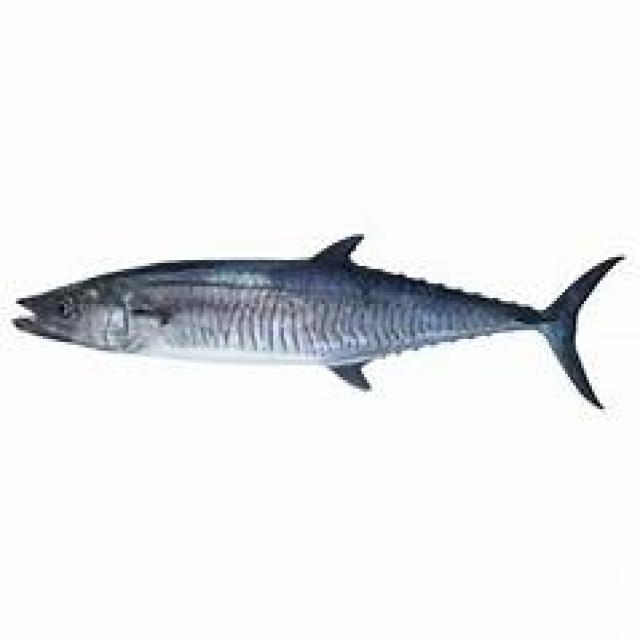seer: (7, 233, 619, 408)
